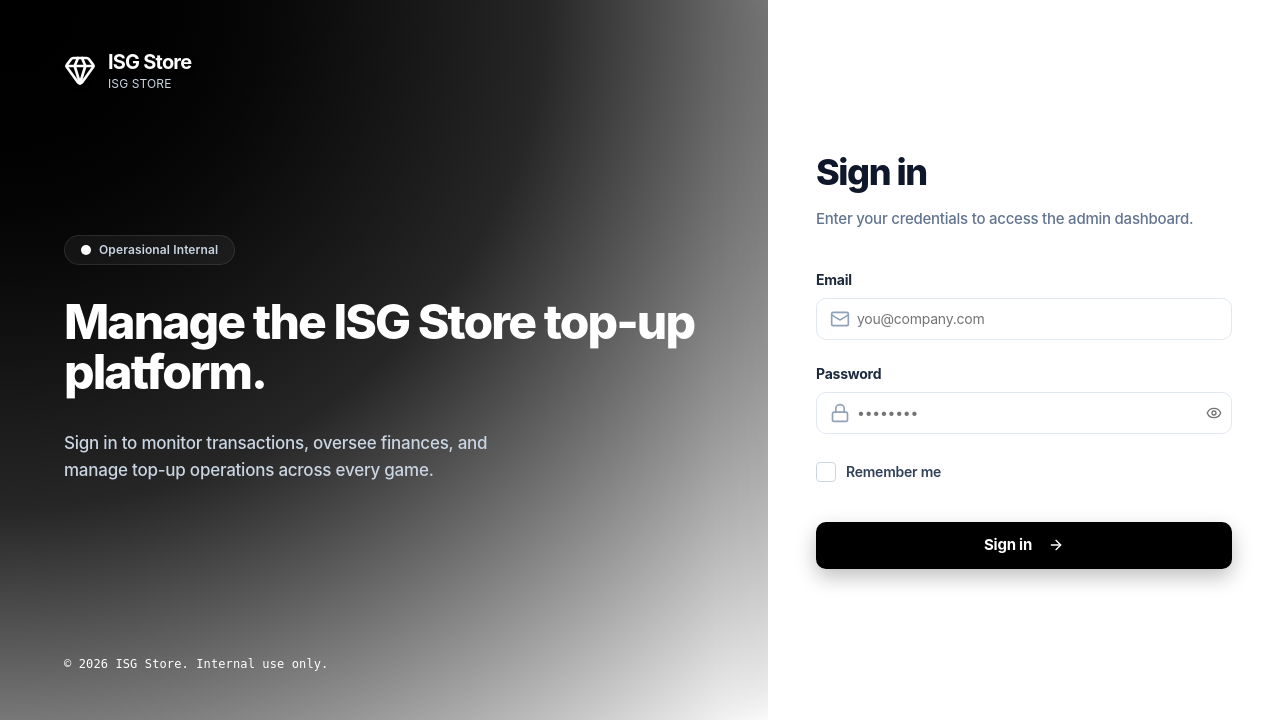
LoginPage › shows validation errors for both fields when submitted empty
Click the button "Sign in" at x=1024, y=545, box top-left (816, 522), bottom-right (1232, 568)
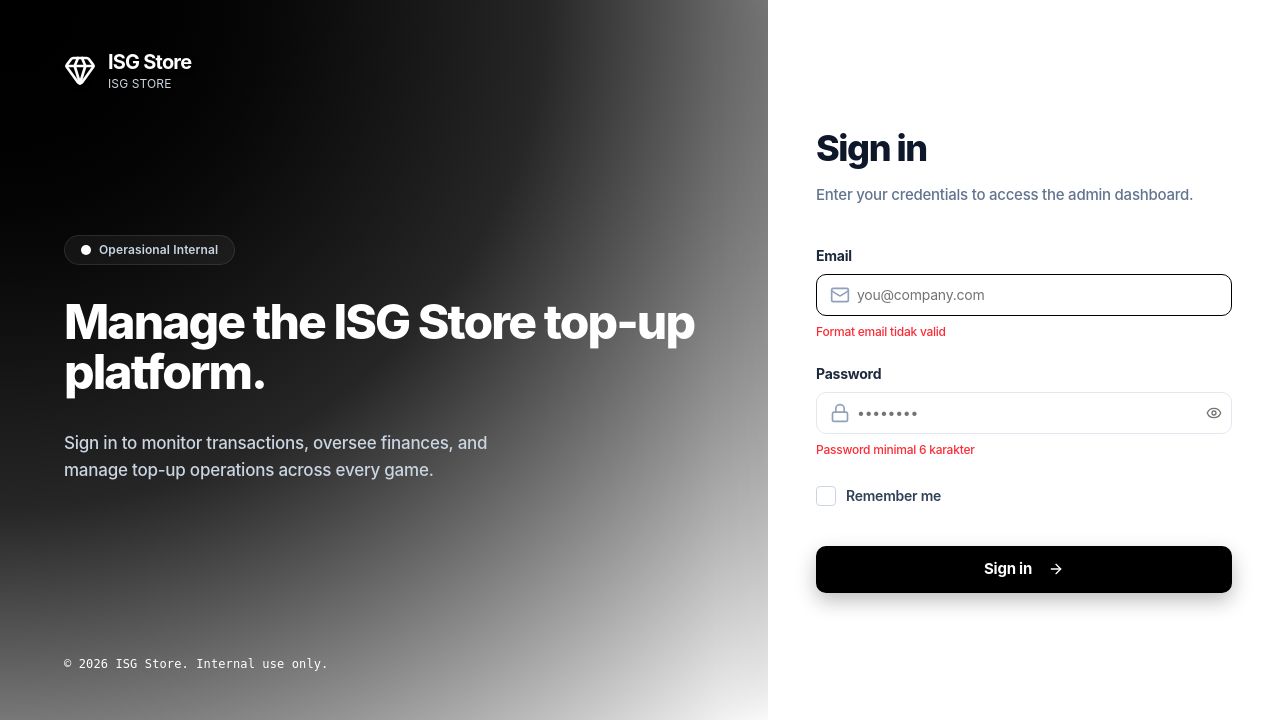
Expected: the text "Format email tidak valid" is shown, top-left (816, 324), bottom-right (946, 339)
Expected: the text "Password minimal 6 karakter" is shown, top-left (816, 442), bottom-right (975, 457)
